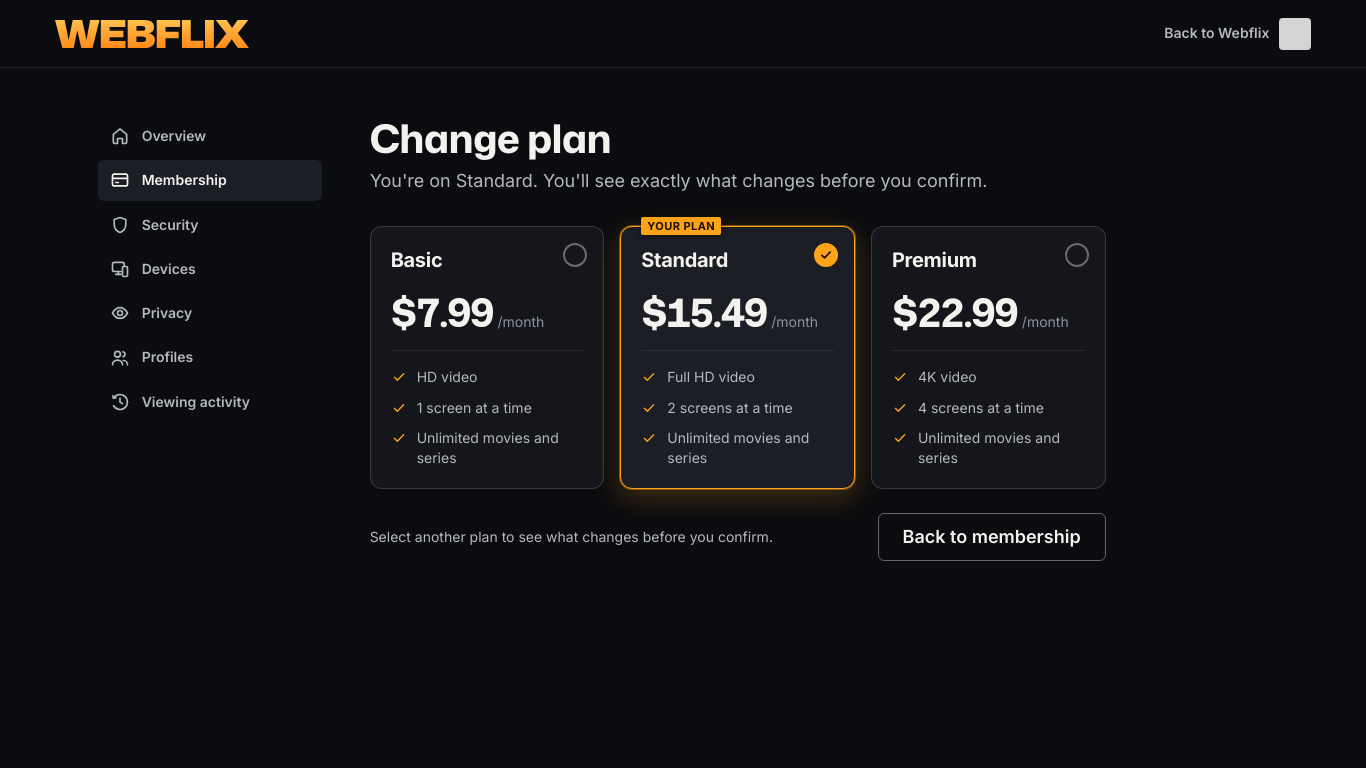
Test: account: membership and billing › previews a plan change on the server and applies exactly that preview
The image size is (1366, 768).
Later steps or results of the test are not shown.
Click the radio button labelled "Premium" at [988, 358], box [871,226,1106,490]
(page scrolled)
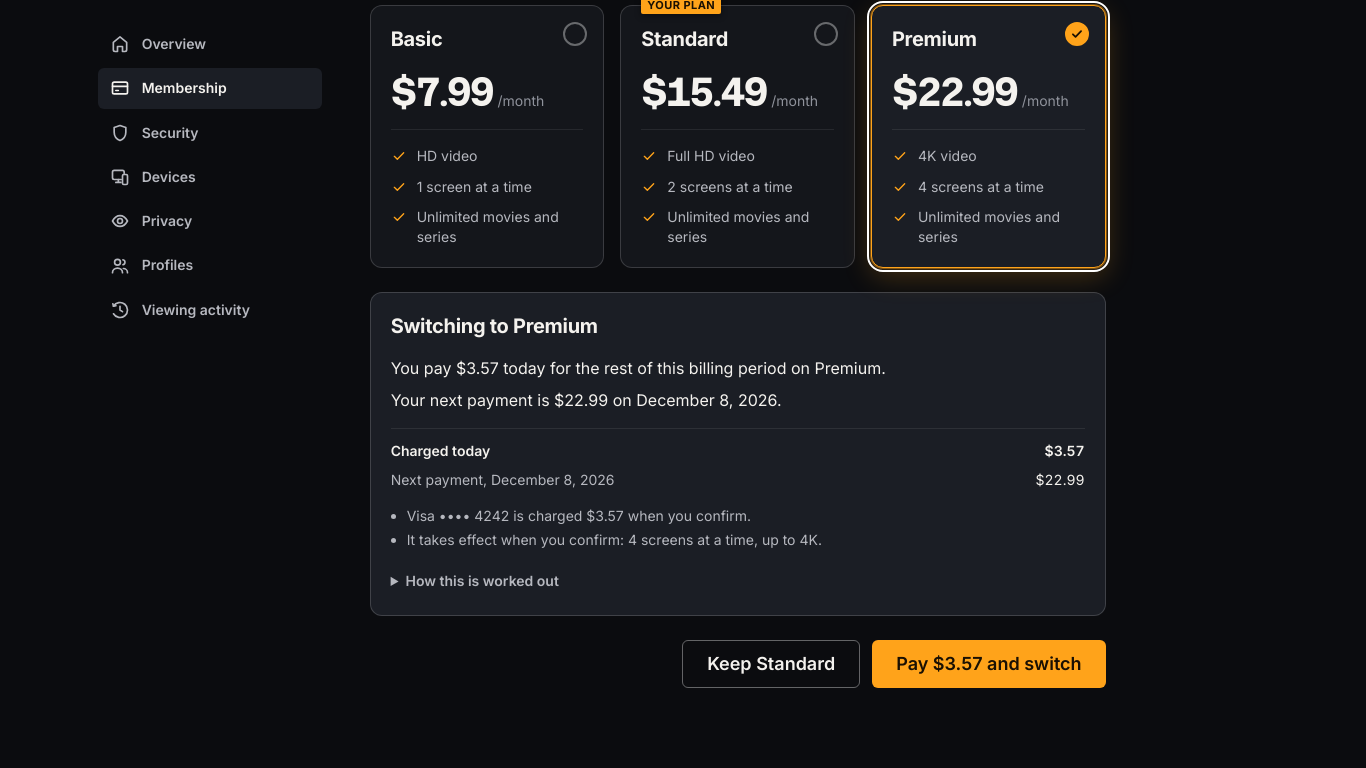
Check: the text "Charged today" is shown, box [391,441,490,462]
